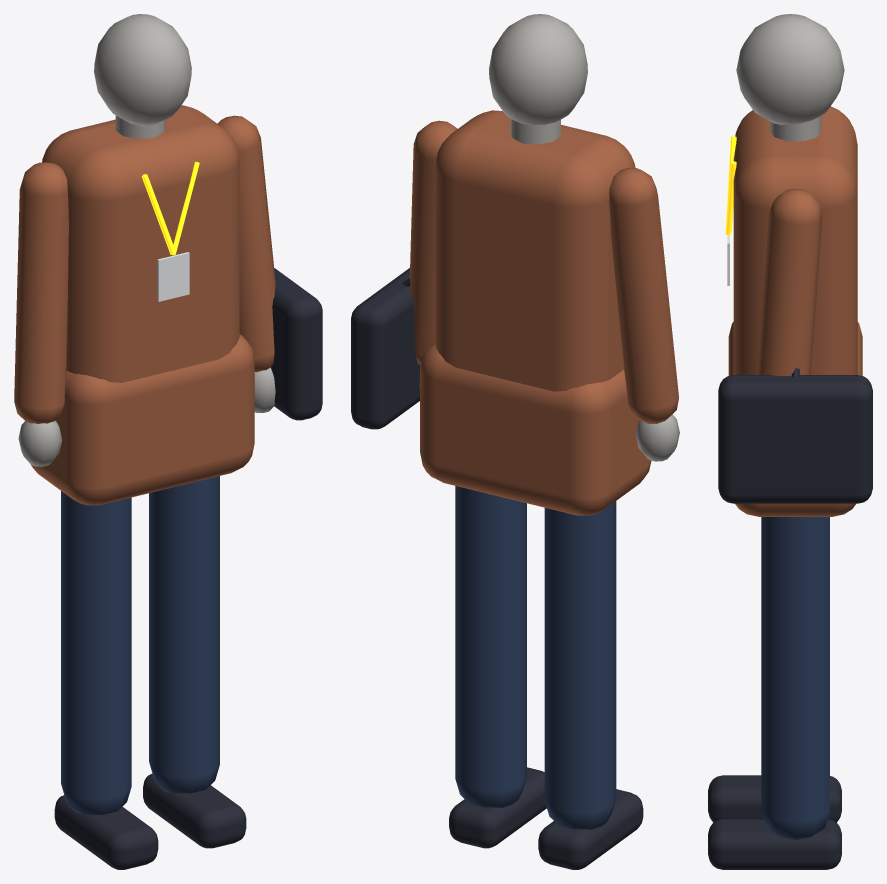
File: trk-008.glb
3 views of the same model, side by side, from view 1: azimuth 30°, elevation 25°; view 2: azimuth 150°, elevation 25°; view 3: azimuth 270°, elevation 25° (orthographic).
Visible parts, largest first — view 1: upholstery_warm, denim, plastic_dark, figure, white, sign_yellow; view 2: upholstery_warm, denim, plastic_dark, figure; view 3: upholstery_warm, plastic_dark, denim, figure, sign_yellow.
Boxes of the visible parts, x1,y1,x2,y2 form: upholstery_warm: (14,105,275,505); denim: (61,476,219,815); plastic_dark: (54,268,322,869); figure: (18,14,275,466); white: (157,252,189,301); sign_yellow: (141,161,199,255); upholstery_warm: (409,110,678,515); denim: (455,486,616,829); plastic_dark: (351,268,643,869); figure: (419,14,679,461); upholstery_warm: (728,106,862,516); plastic_dark: (708,368,872,869); denim: (761,517,829,839); figure: (736,14,844,141); sign_yellow: (725,136,736,235).
Size of the model in its own units: 0.6344 by 1.76 by 0.32.
